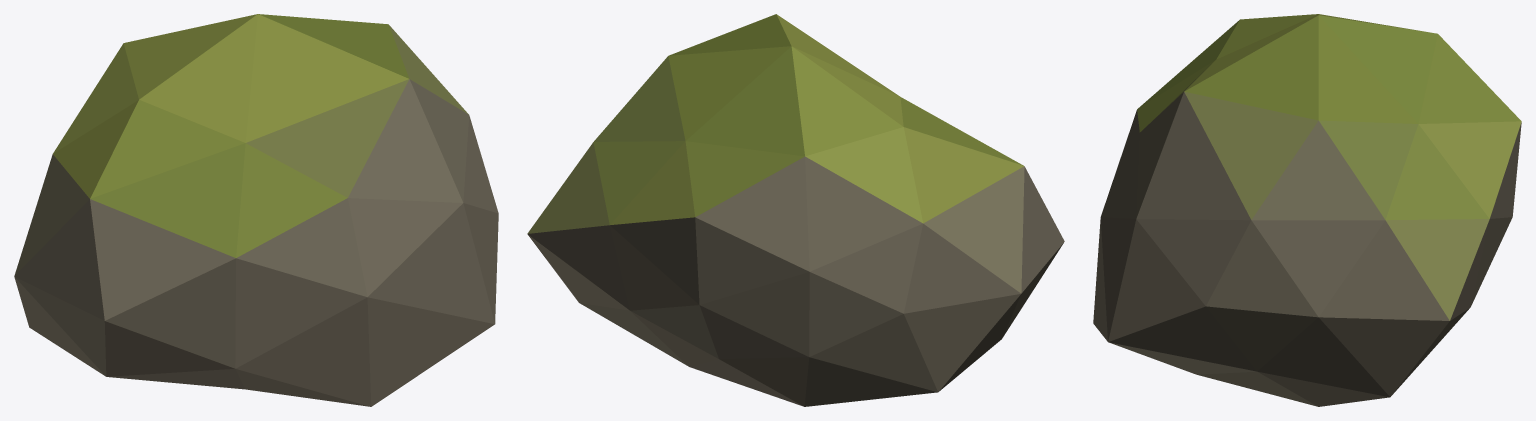
3 views of the same model, side by side, from view 1: azimuth 30°, elevation 25°; view 2: azimuth 150°, elevation 25°; view 3: azimuth 270°, elevation 25° (orthographic). The views are drawn at different scales.
Visible parts, largest first — view 1: rock_a_solid; view 2: rock_a_solid; view 3: rock_a_solid.
Part boxes in pixels (x1,y1,x2,y2): rock_a_solid: (14,14,498,406); rock_a_solid: (527,14,1064,406); rock_a_solid: (1093,14,1521,406).
Size of the model in its own units: 2.28 by 1.57 by 1.86.
